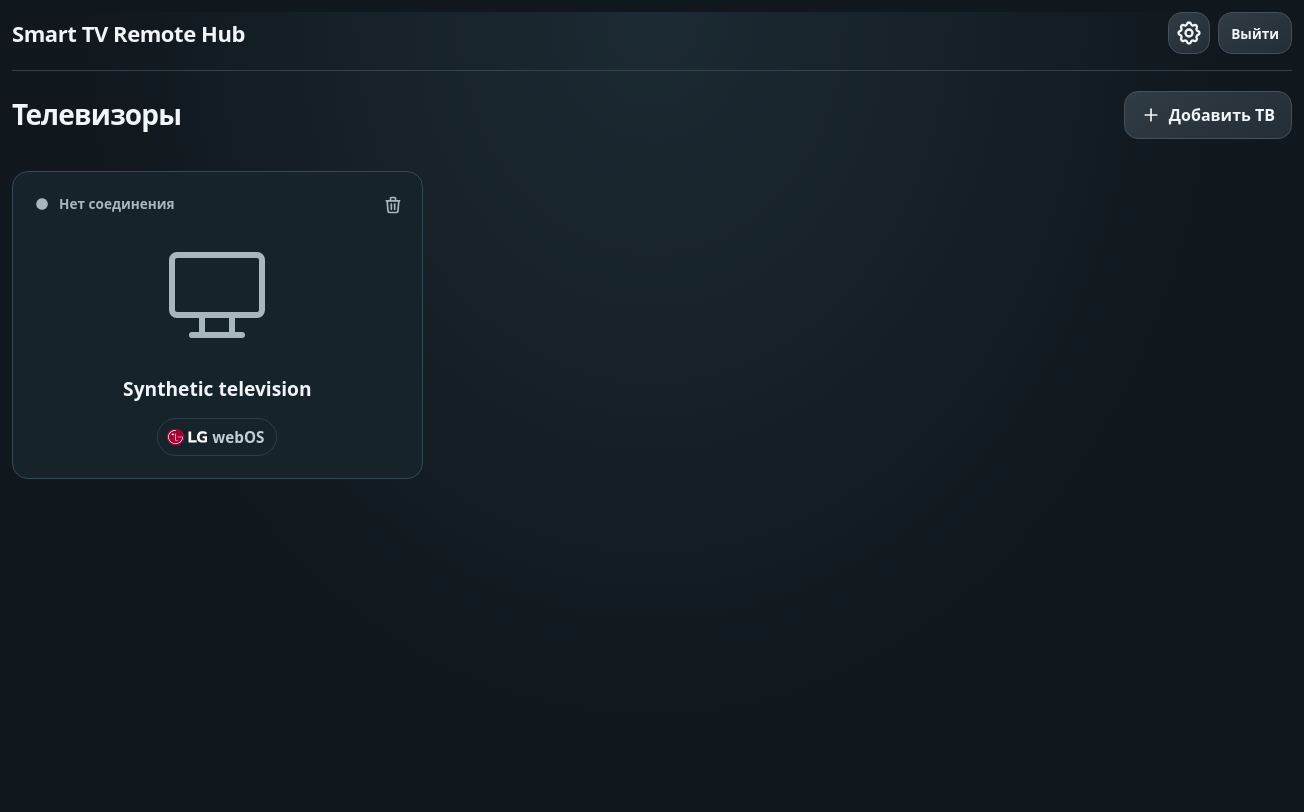
Test: adds another TV with CSRF and returns to the refreshed dashboard
The image size is (1304, 812).
Click the button "Добавить ТВ" at (1208, 115), box x1=1124 y1=91 x2=1292 y2=139
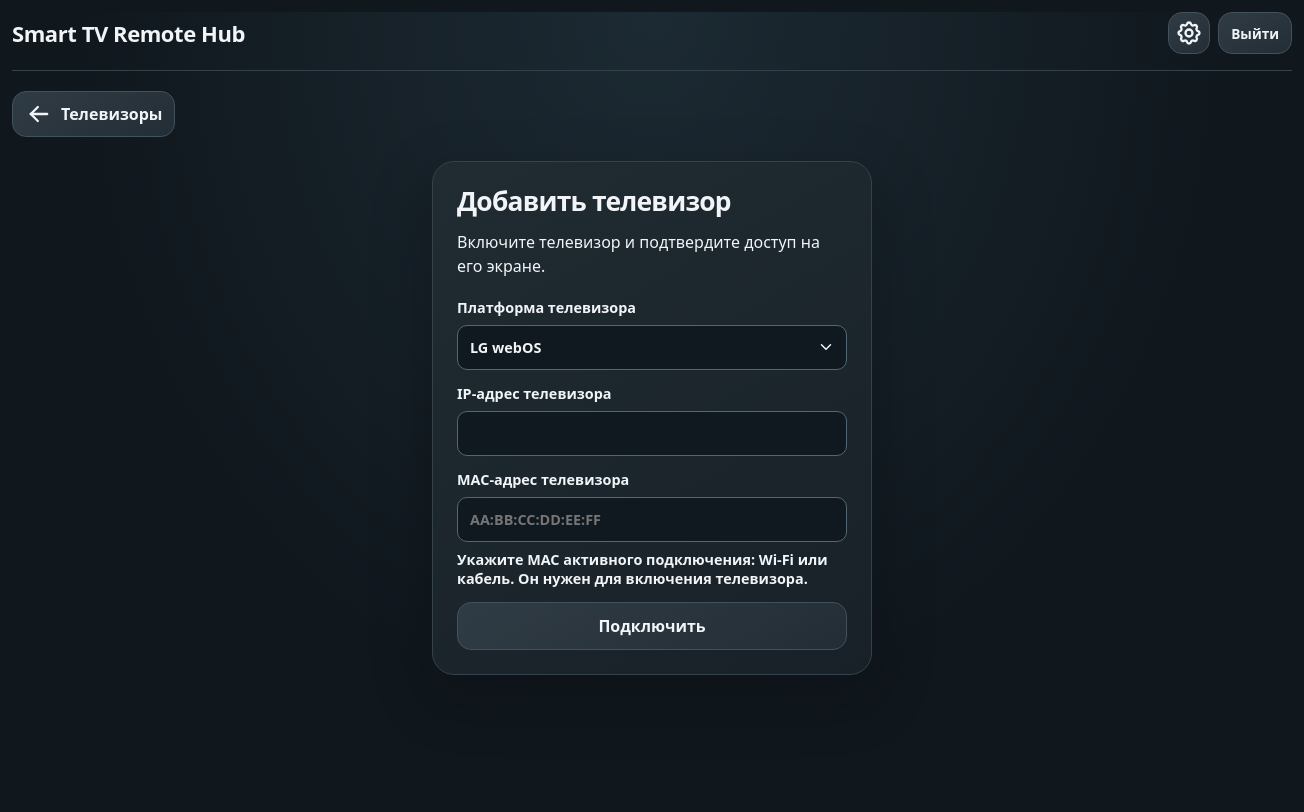
Type "192.168.1.21" into the field labelled "IP-адрес телевизора" at (652, 433), box x1=457 y1=411 x2=847 y2=456
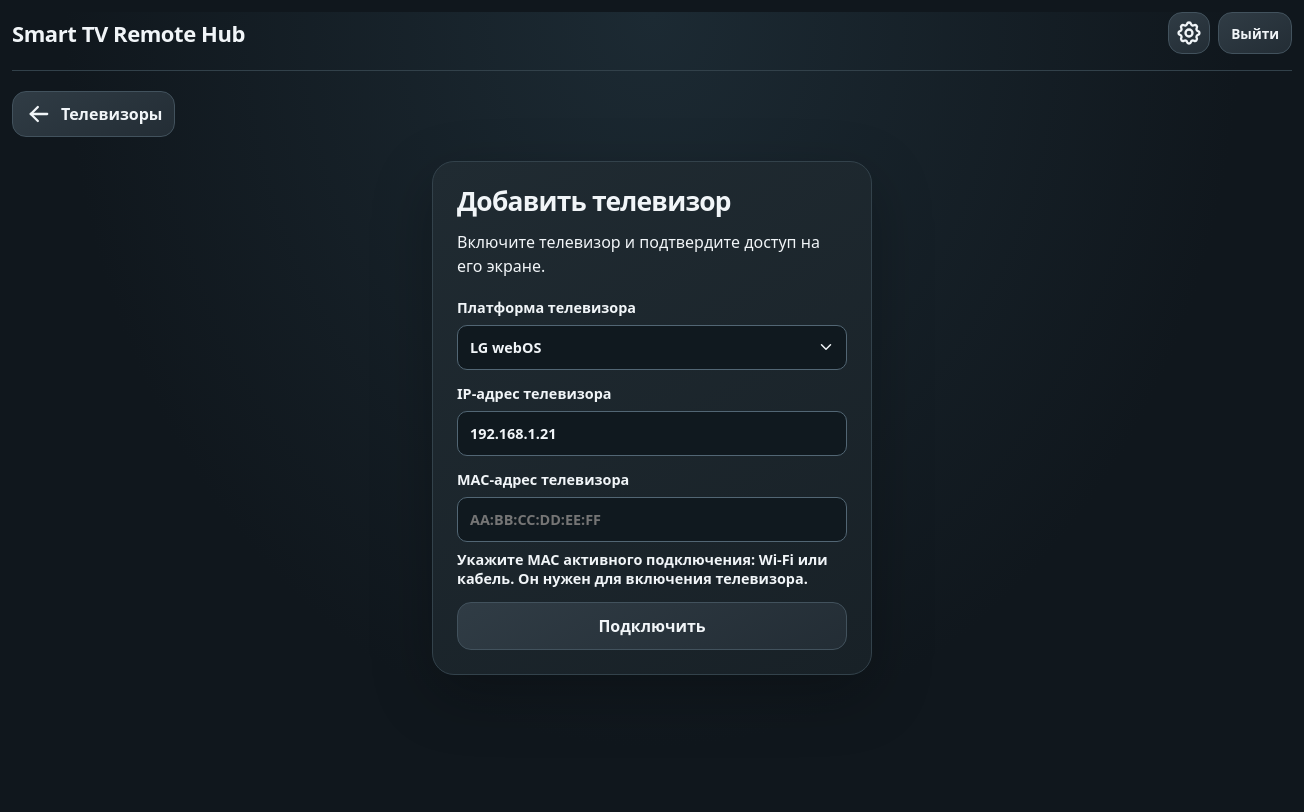
Type "02:00:00:00:00:02" into the field labelled "MAC-адрес телевизора" at (652, 519), box x1=457 y1=497 x2=847 y2=542
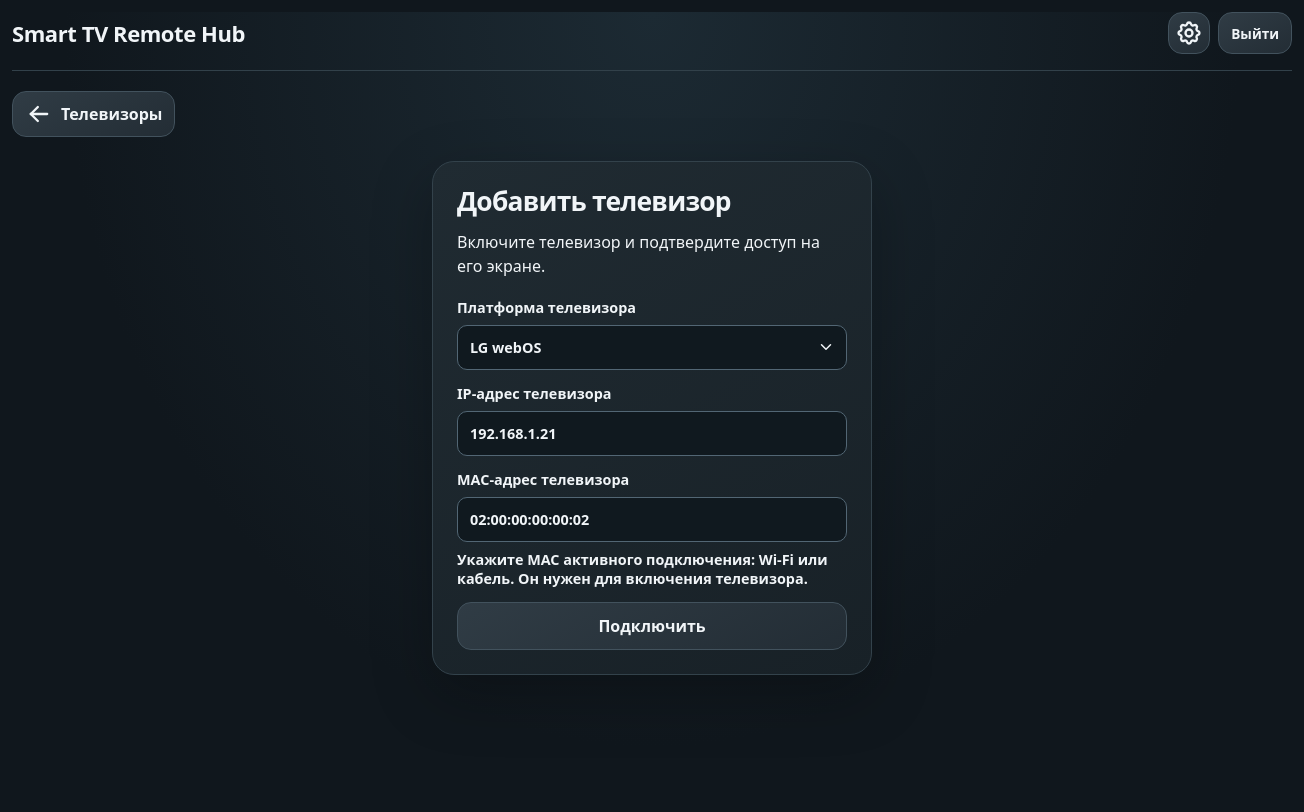
Submit the form named "Подключить", box x1=457 y1=298 x2=847 y2=650
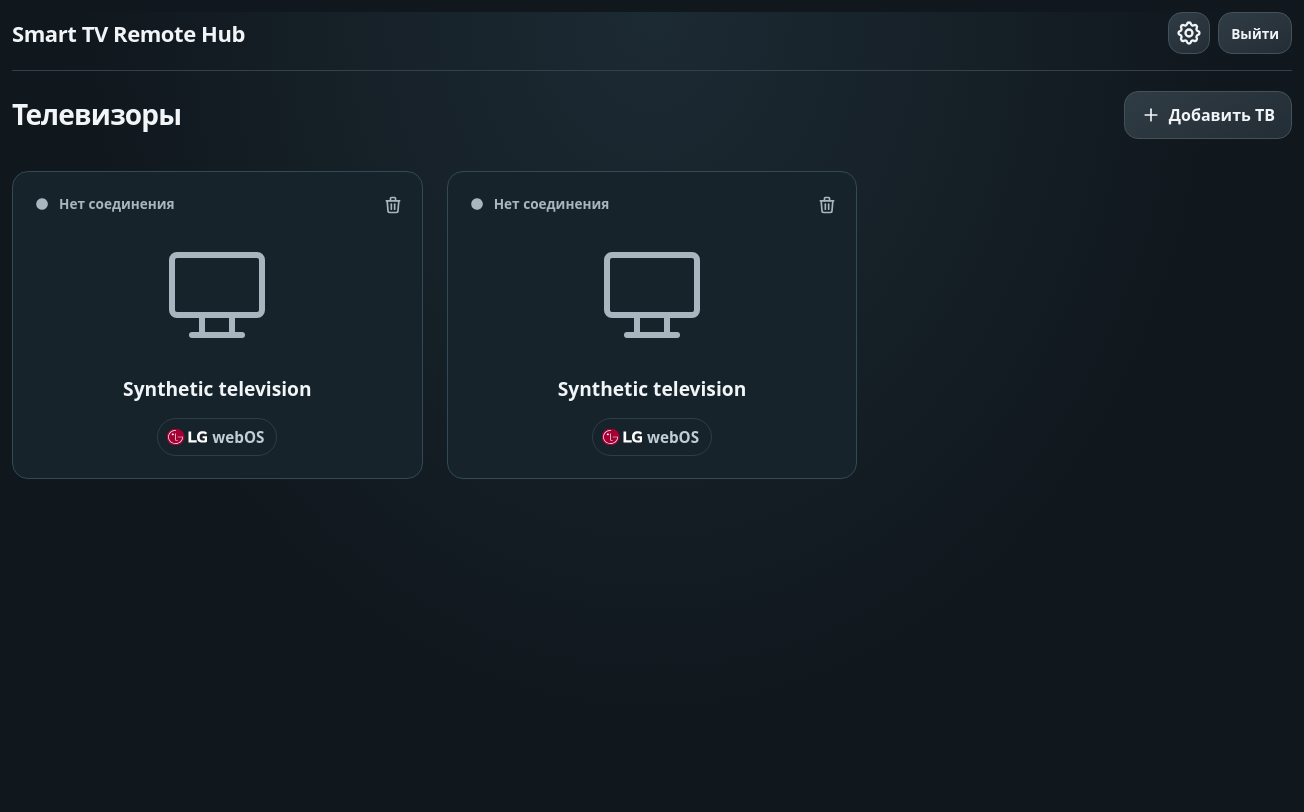
Expected: the number of buttons named "Открыть телевизор " is 2, x1=12 y1=171 x2=423 y2=479; x1=447 y1=171 x2=857 y2=479
